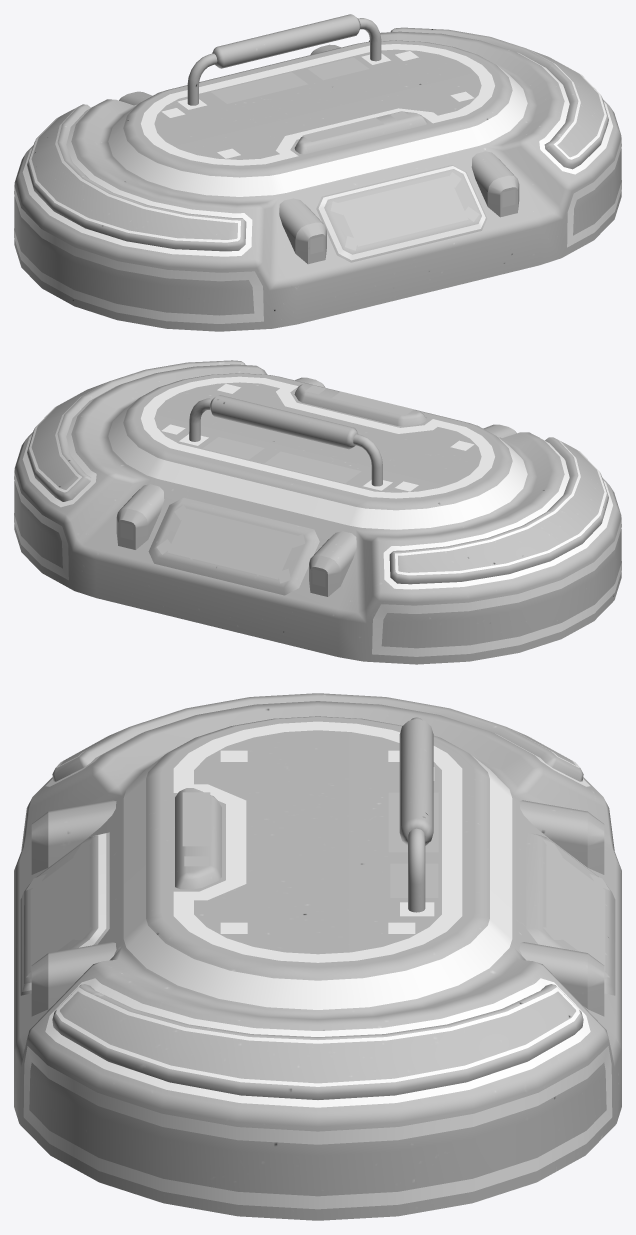
Rendered from SM_Construction_8_Merged.fbx.
3 views of the same model, one above another, from view 1: azimuth 30°, elevation 25°; view 2: azimuth 150°, elevation 25°; view 3: azimuth 270°, elevation 25° (orthographic). The views are drawn at different scales.
Visible parts, largest first — view 1: SM_Construction_8_Merged_LOD0; view 2: SM_Construction_8_Merged_LOD0; view 3: SM_Construction_8_Merged_LOD0.
Boxes of the visible parts, <box> form: SM_Construction_8_Merged_LOD0: <box>14,14,621,331</box>; SM_Construction_8_Merged_LOD0: <box>14,360,621,664</box>; SM_Construction_8_Merged_LOD0: <box>14,693,621,1220</box>.
Bounding box in the file's own units: 240 × 151 × 68.61.
